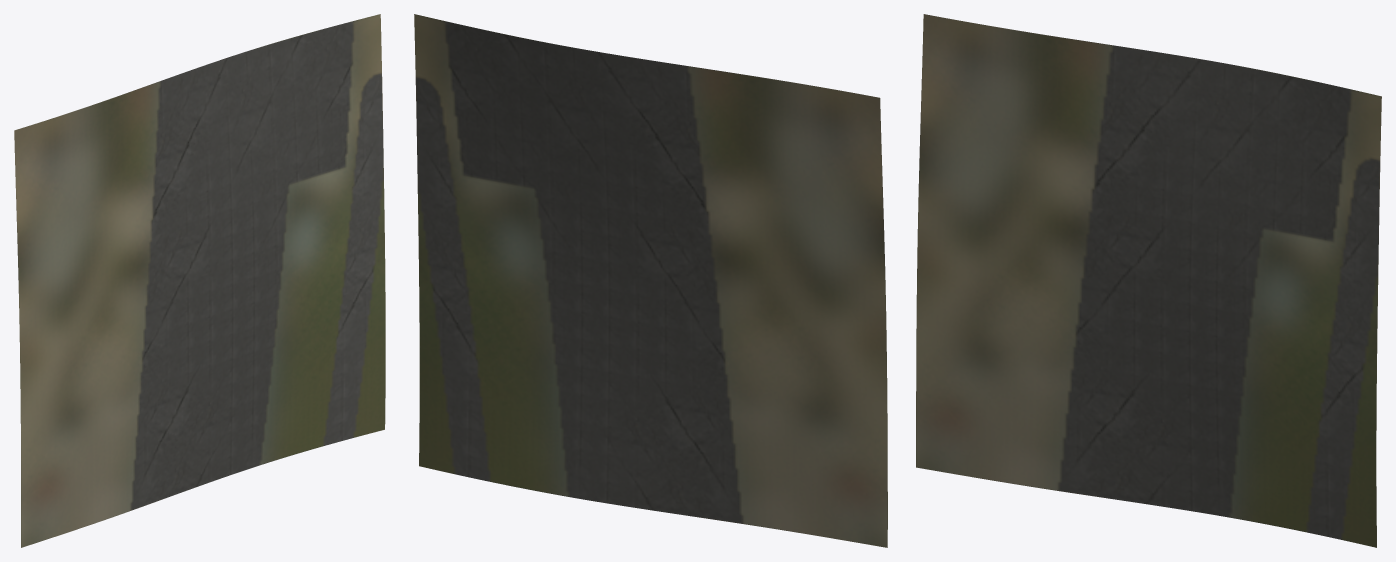
The model's file is ground_core_06_07.obj.
3 renders of one model, left to right at view 1: azimuth 30°, elevation 25°; view 2: azimuth 150°, elevation 25°; view 3: azimuth 330°, elevation 25°, orthographic. The views are drawn at different scales.
Visible parts, largest first — view 1: ground_core_06_07; view 2: ground_core_06_07; view 3: ground_core_06_07.
Part boxes in pixels (<box>): ground_core_06_07: <box>14,14,385,547</box>; ground_core_06_07: <box>414,14,887,547</box>; ground_core_06_07: <box>916,14,1381,547</box>.
Bounding box in the file's own units: 50 × 50 × 7.6.
1 material, 1 textured.
